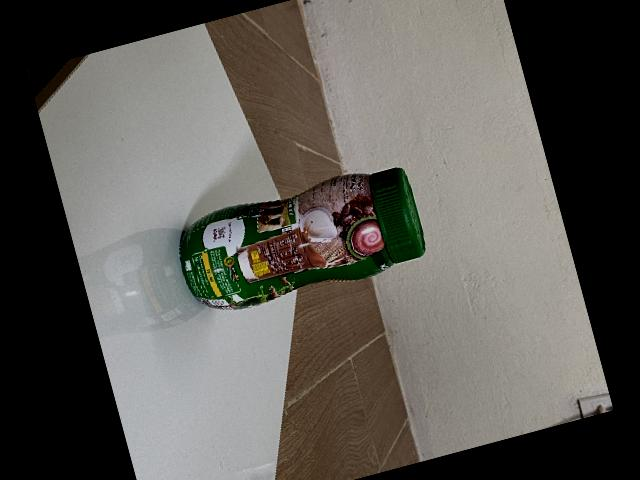milo: (177, 167, 425, 310)
